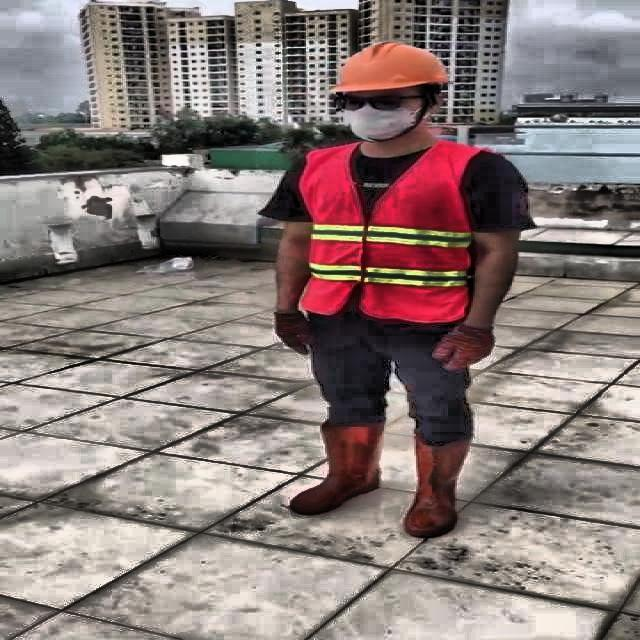safety_helmet: (332, 40, 450, 91)
safety_jacket: (300, 142, 474, 323)
